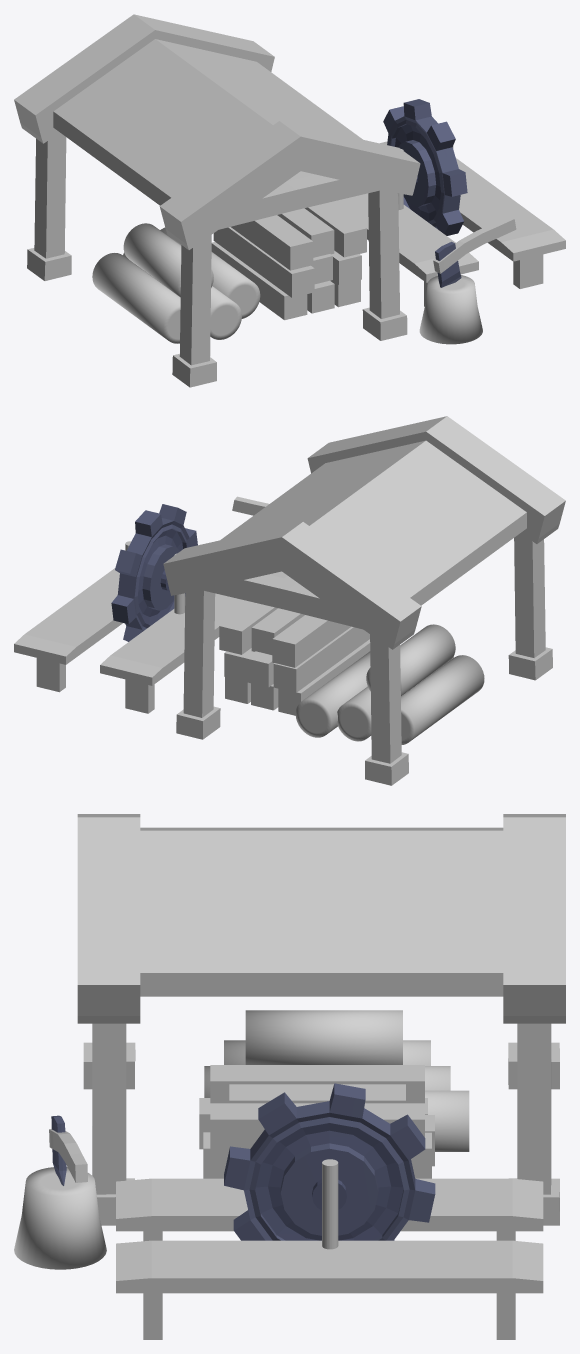
Rendered from Lumber_Mill.fbx.
The picture shows the model from 3 angles, top to bottom: view 1: azimuth 30°, elevation 25°; view 2: azimuth 150°, elevation 25°; view 3: azimuth 270°, elevation 25°; orthographic projection. The views are drawn at different scales.
Parts seen in each view (by area): view 1: Lumber_Mill, Lumber_Mill_Gear; view 2: Lumber_Mill, Lumber_Mill_Gear; view 3: Lumber_Mill, Lumber_Mill_Gear.
Boxes of the visible parts, x1,y1,x2,y2 form: Lumber_Mill: (14, 14, 565, 387); Lumber_Mill_Gear: (383, 99, 467, 235); Lumber_Mill: (14, 416, 565, 785); Lumber_Mill_Gear: (111, 504, 197, 641); Lumber_Mill: (14, 814, 565, 1339); Lumber_Mill_Gear: (224, 1083, 435, 1240).
Size of the model in its own units: 784 by 429 by 644.
